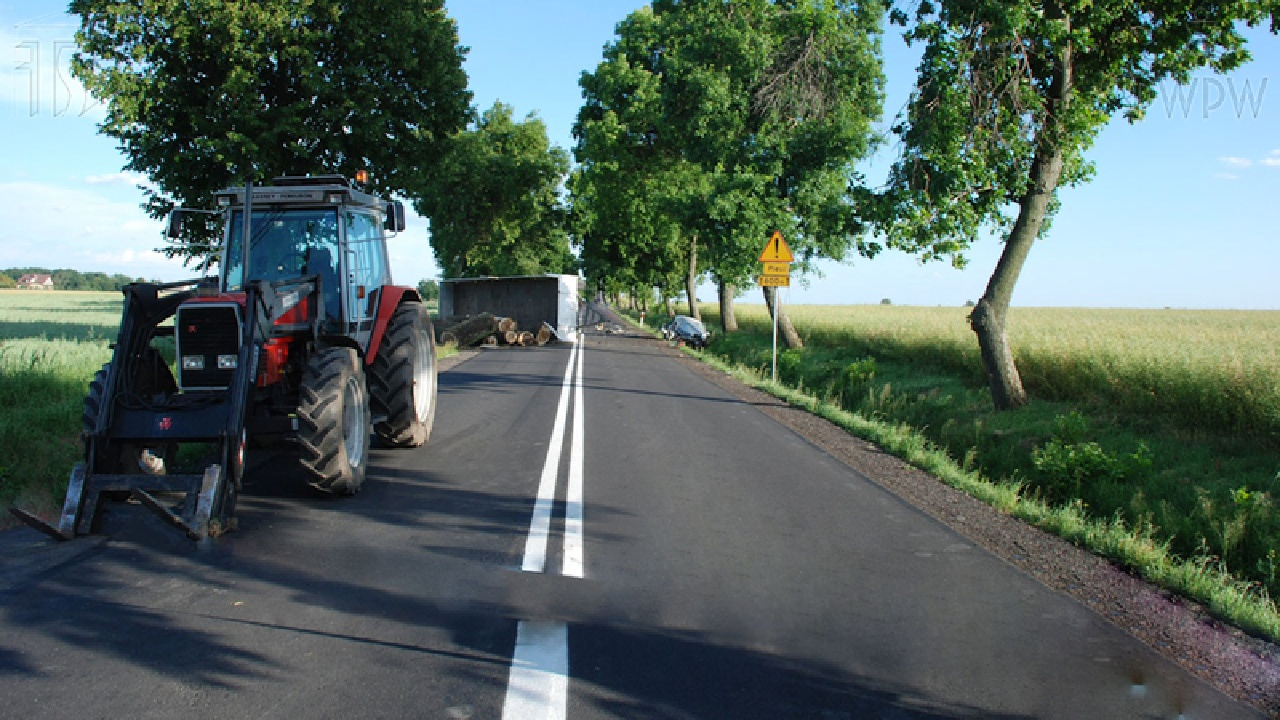A30: (758, 230, 795, 262)
